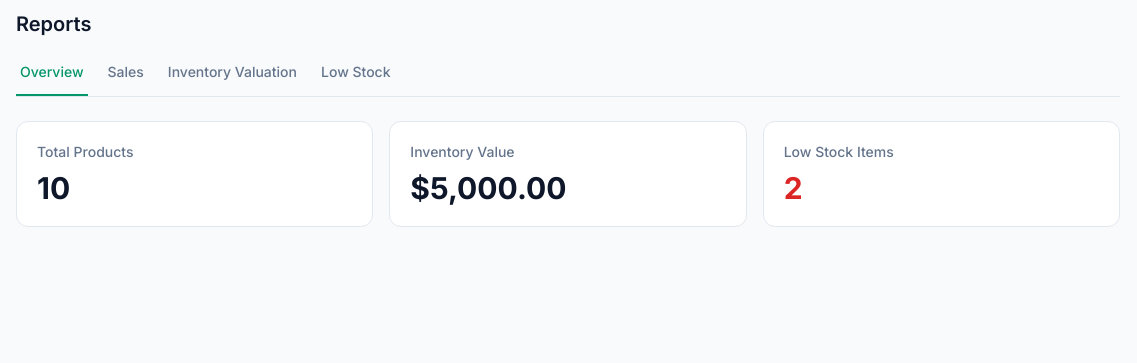
Test: ReportsPage › as admin › shows valuation when Inventory Valuation tab clicked
Click the tab "Inventory Valuation": (232, 79) [164,62,301,96]
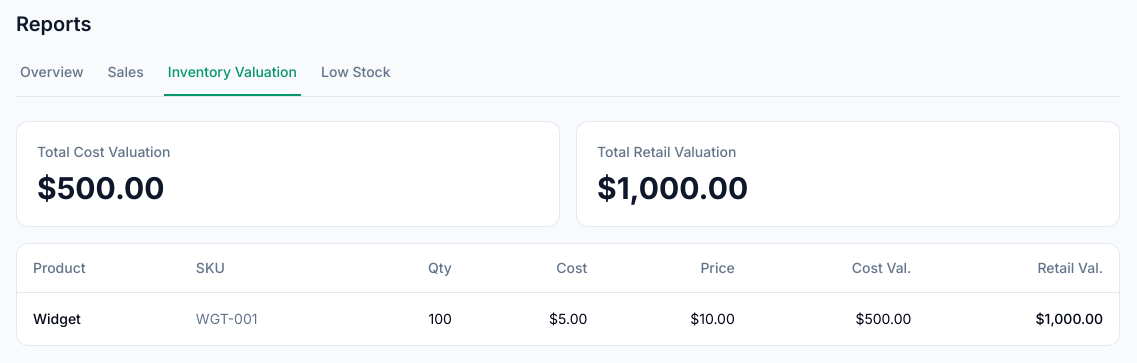
Expected: the text "WGT-001" is shown, [180,292,360,344]
